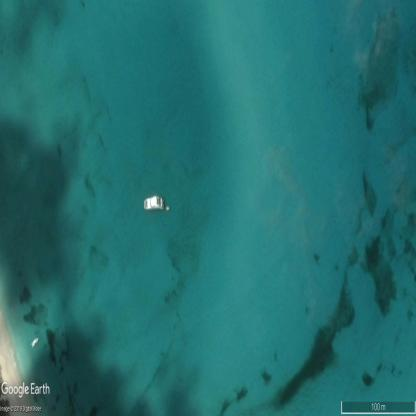ship: (144, 196, 164, 210), (31, 338, 38, 348), (166, 206, 170, 210)
